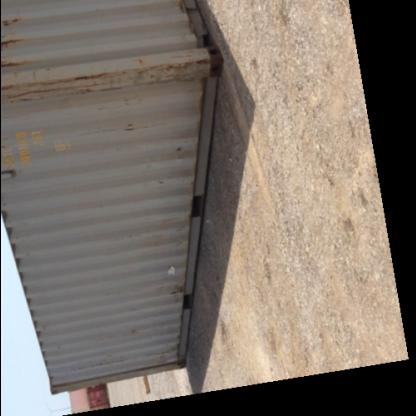Damage: (7, 56, 198, 106), (65, 354, 124, 376), (150, 336, 177, 372), (1, 7, 21, 50), (161, 282, 185, 310), (114, 118, 141, 136), (115, 328, 147, 340), (168, 139, 184, 157)
